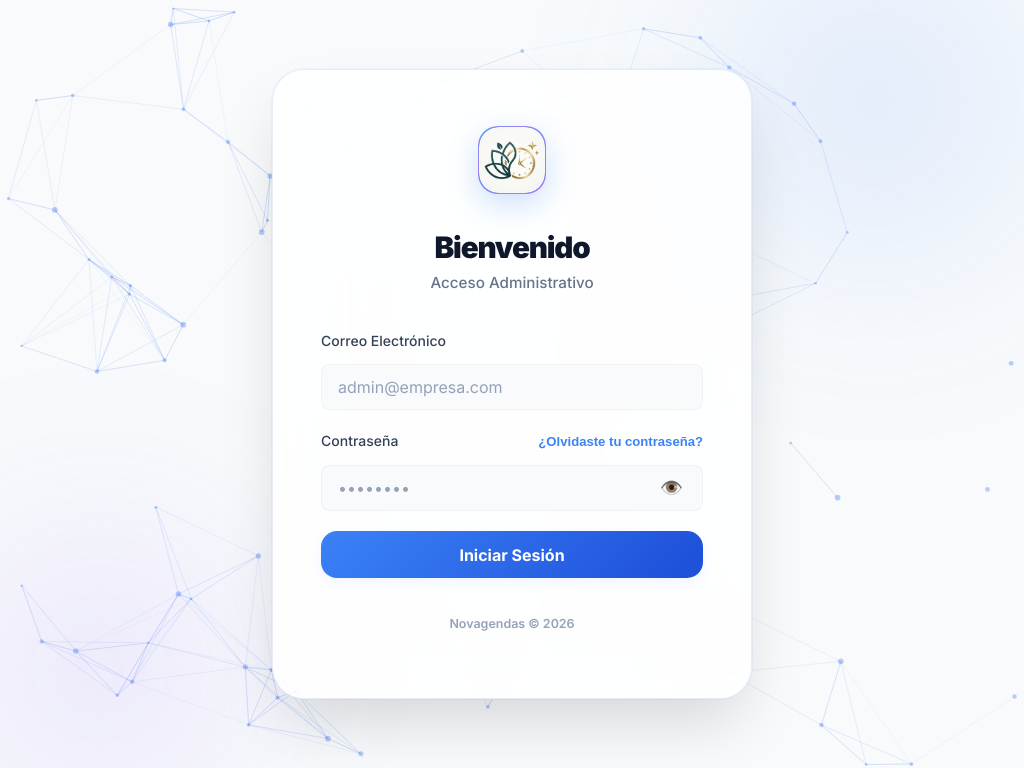
Test: Login Component › shows error if email is missing @
Type "invalidemail" into the field with placeholder "admin@empresa.com" at (512, 387), box [321, 364, 703, 410]
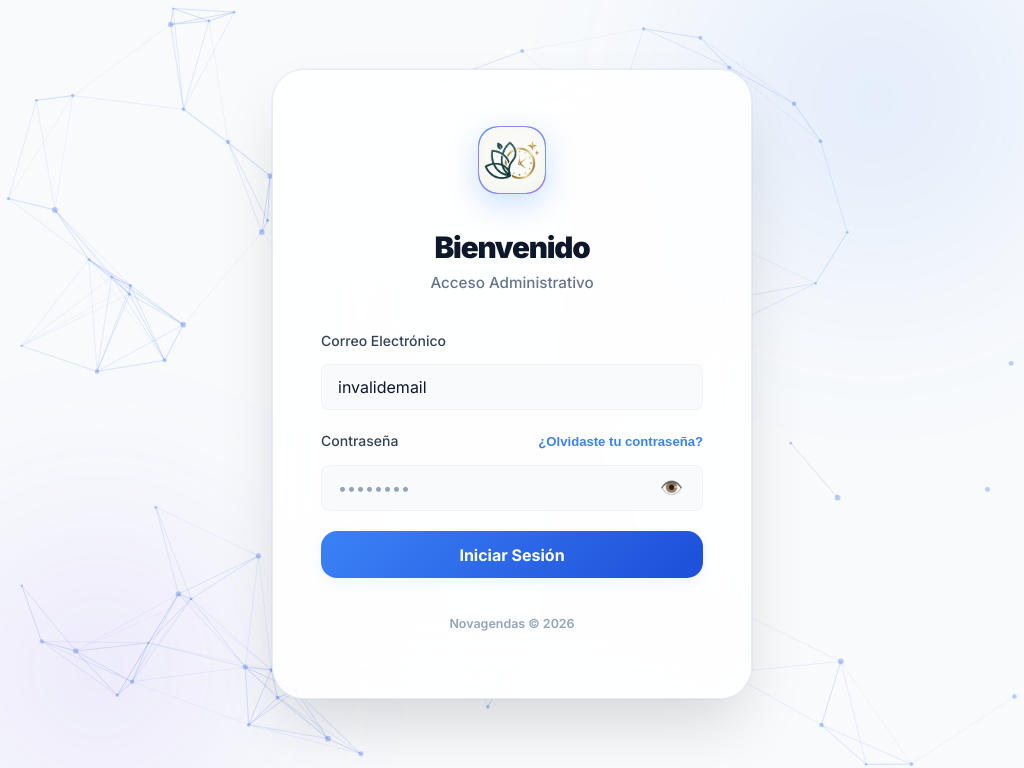
Click the button "Iniciar Sesión" at (512, 555), box [321, 531, 703, 578]
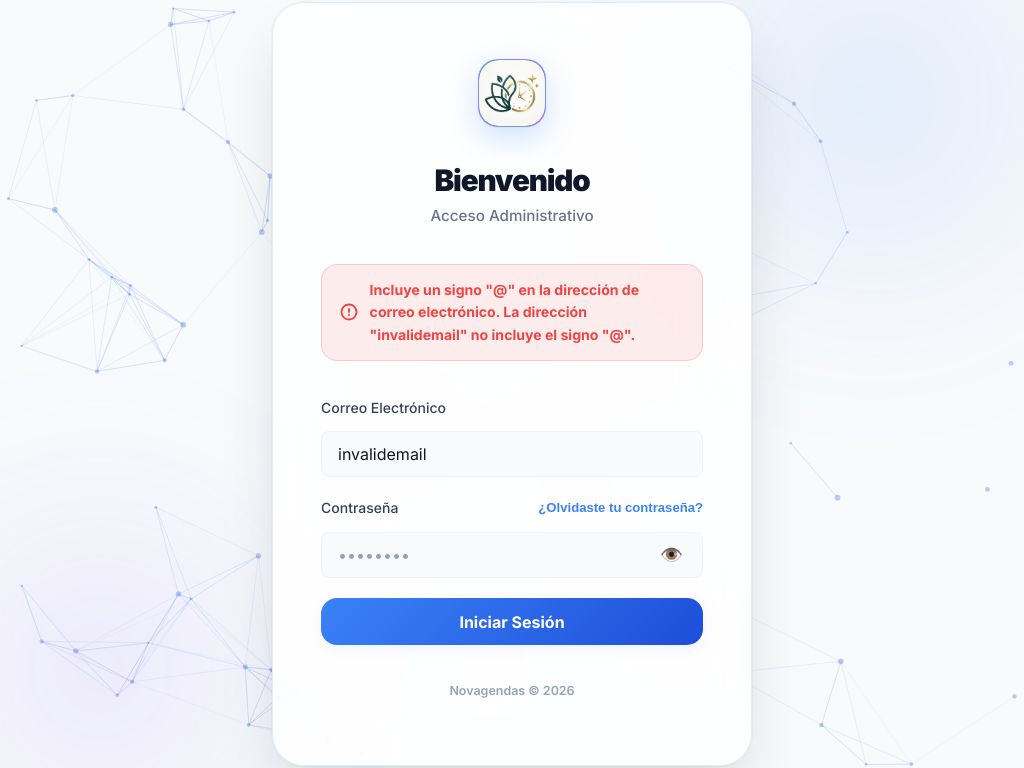
Expected: the text "Incluye un signo \"@\"" is shown, [370, 281, 639, 343]
